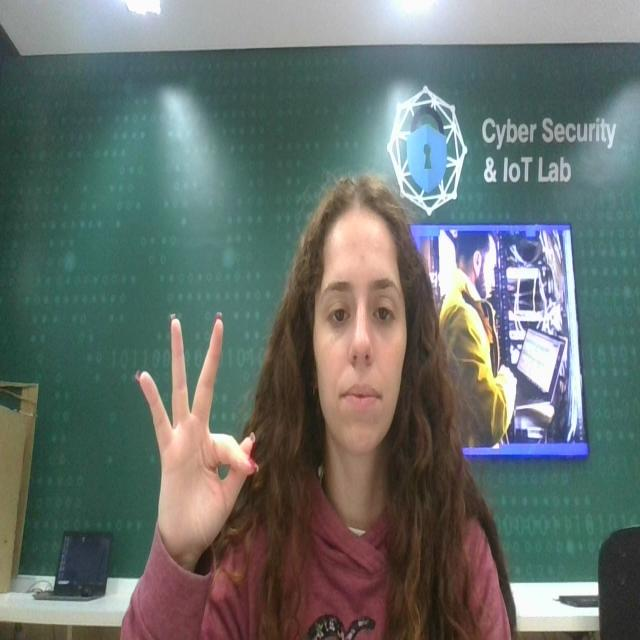F: (128, 287, 262, 551)
